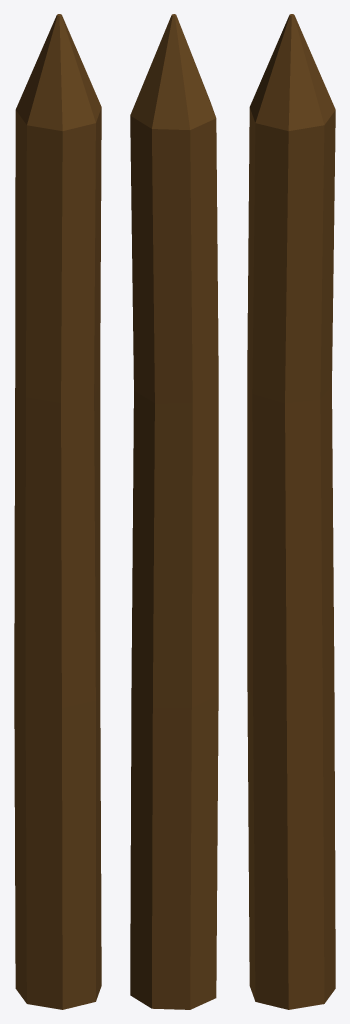
Rendered from PoteauBois.fbx.
3 views of the same model, side by side, from view 1: azimuth 30°, elevation 25°; view 2: azimuth 150°, elevation 25°; view 3: azimuth 330°, elevation 25° (orthographic).
Parts seen in each view (by area): view 1: PoteauBois; view 2: PoteauBois; view 3: PoteauBois.
Boxes of the visible parts, box(x1,y1,x2,y2) form: PoteauBois: box(14, 14, 101, 1009); PoteauBois: box(130, 14, 218, 1009); PoteauBois: box(247, 14, 335, 1009).
Bounding box in the file's own units: 49.78 × 607 × 48.47.
